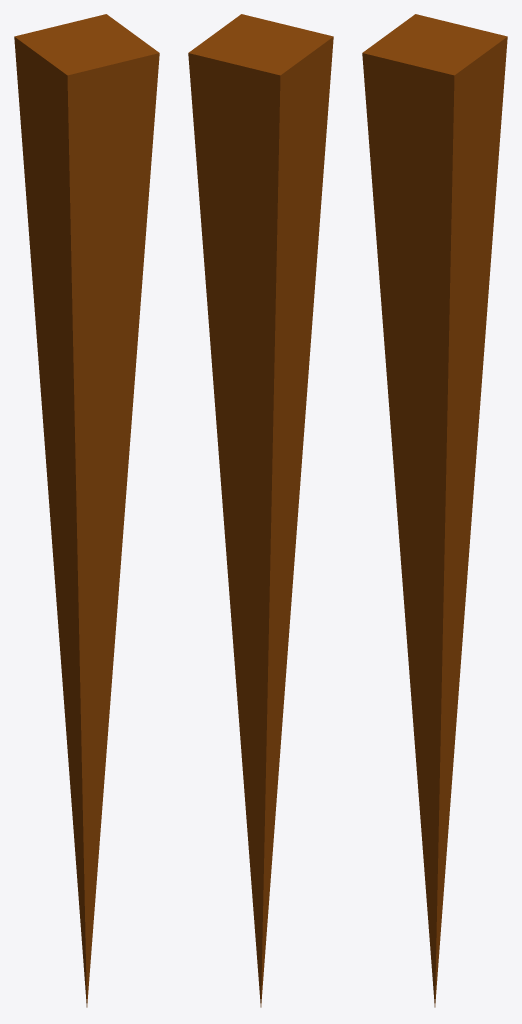
File: woodchip.glb
The picture shows the model from 3 angles, left to right: view 1: azimuth 30°, elevation 25°; view 2: azimuth 150°, elevation 25°; view 3: azimuth 330°, elevation 25°; orthographic projection.
Parts seen in each view (by area): view 1: Woodchip; view 2: Woodchip; view 3: Woodchip.
Part boxes in pixels (left/top/right/bottom): Woodchip: left=14, top=14, right=159, bottom=1007; Woodchip: left=188, top=14, right=333, bottom=1007; Woodchip: left=362, top=14, right=507, bottom=1007.
Size of what is drawn, in the model's own units: 0.2 by 2 by 0.2.
